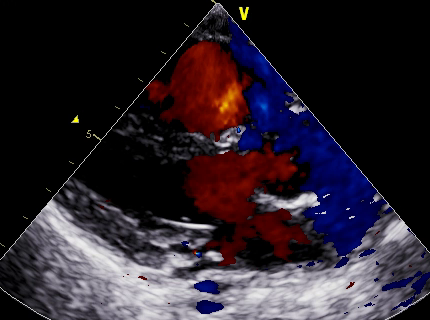AR: (179, 146, 303, 212)
